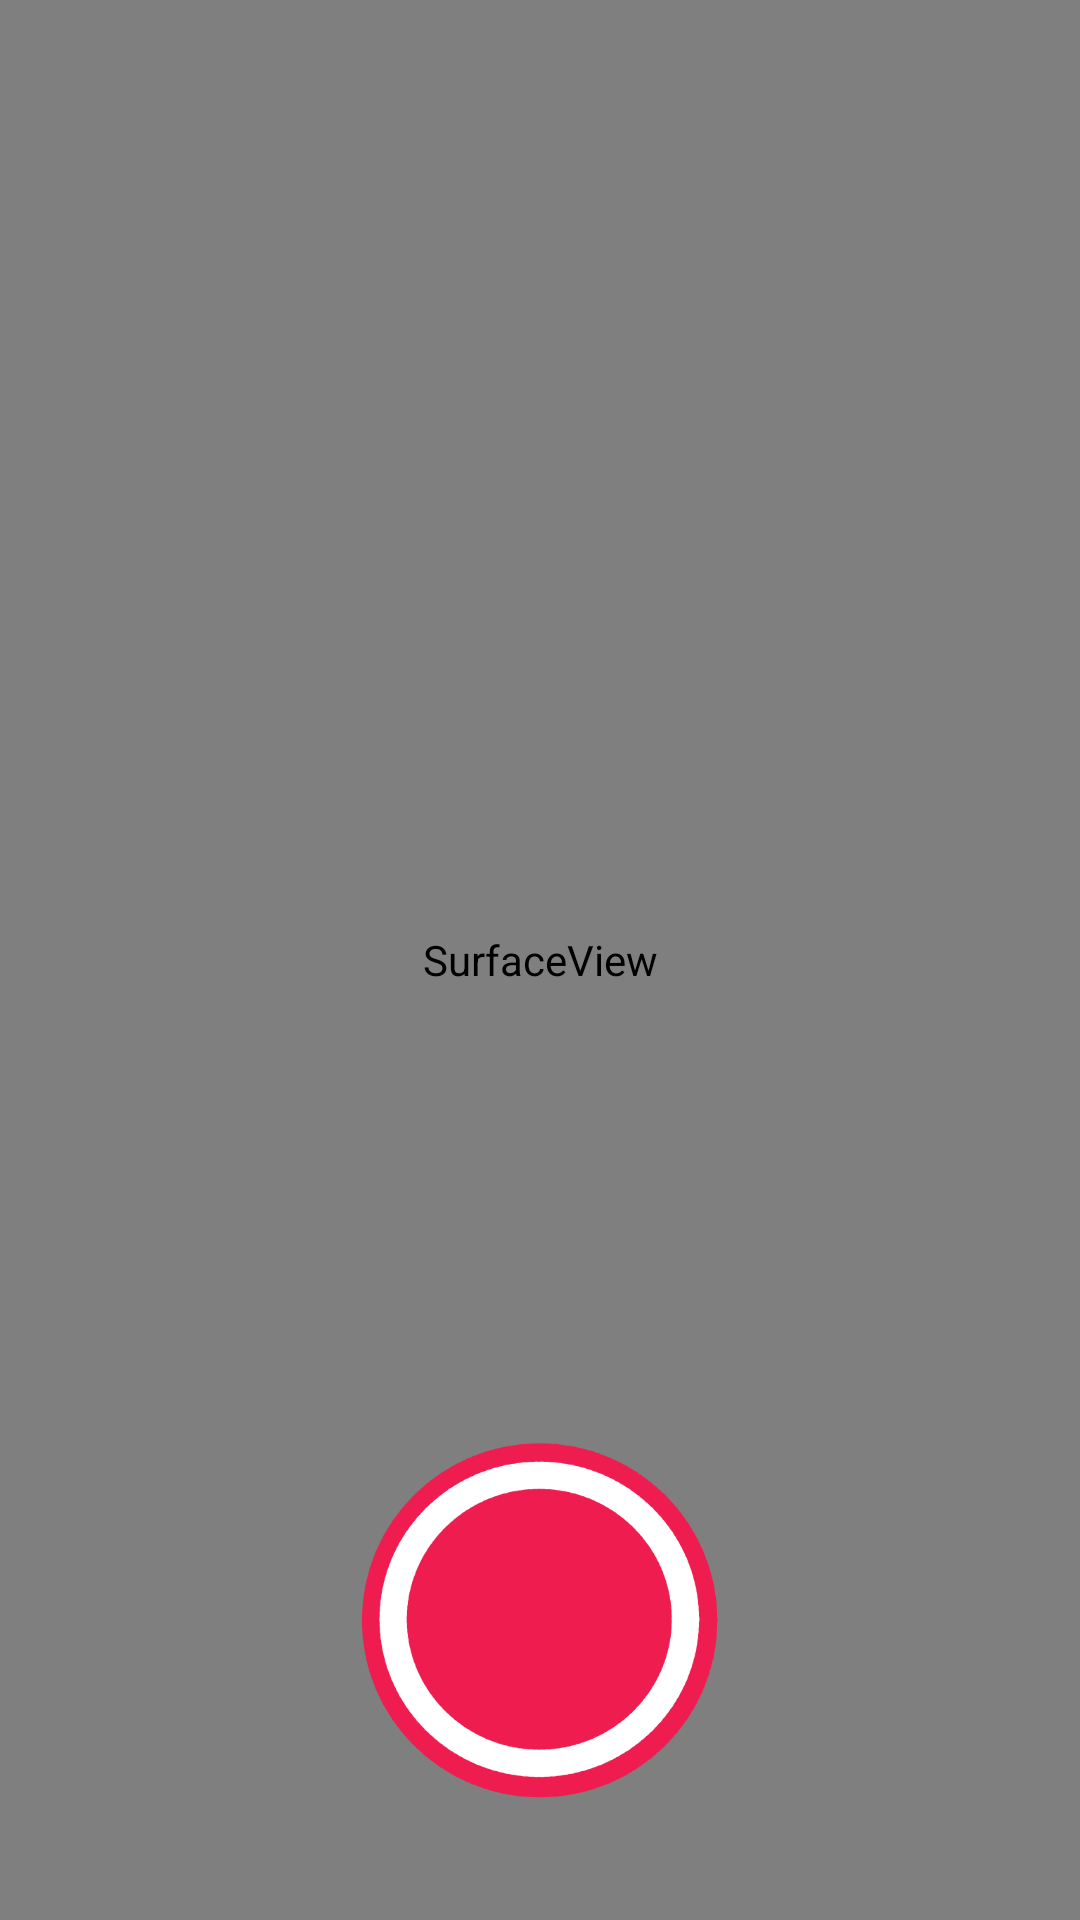

Screen size 1080*1920. Icon name, then its center in pixels as point (x, y):
rec: point (540, 1620)
